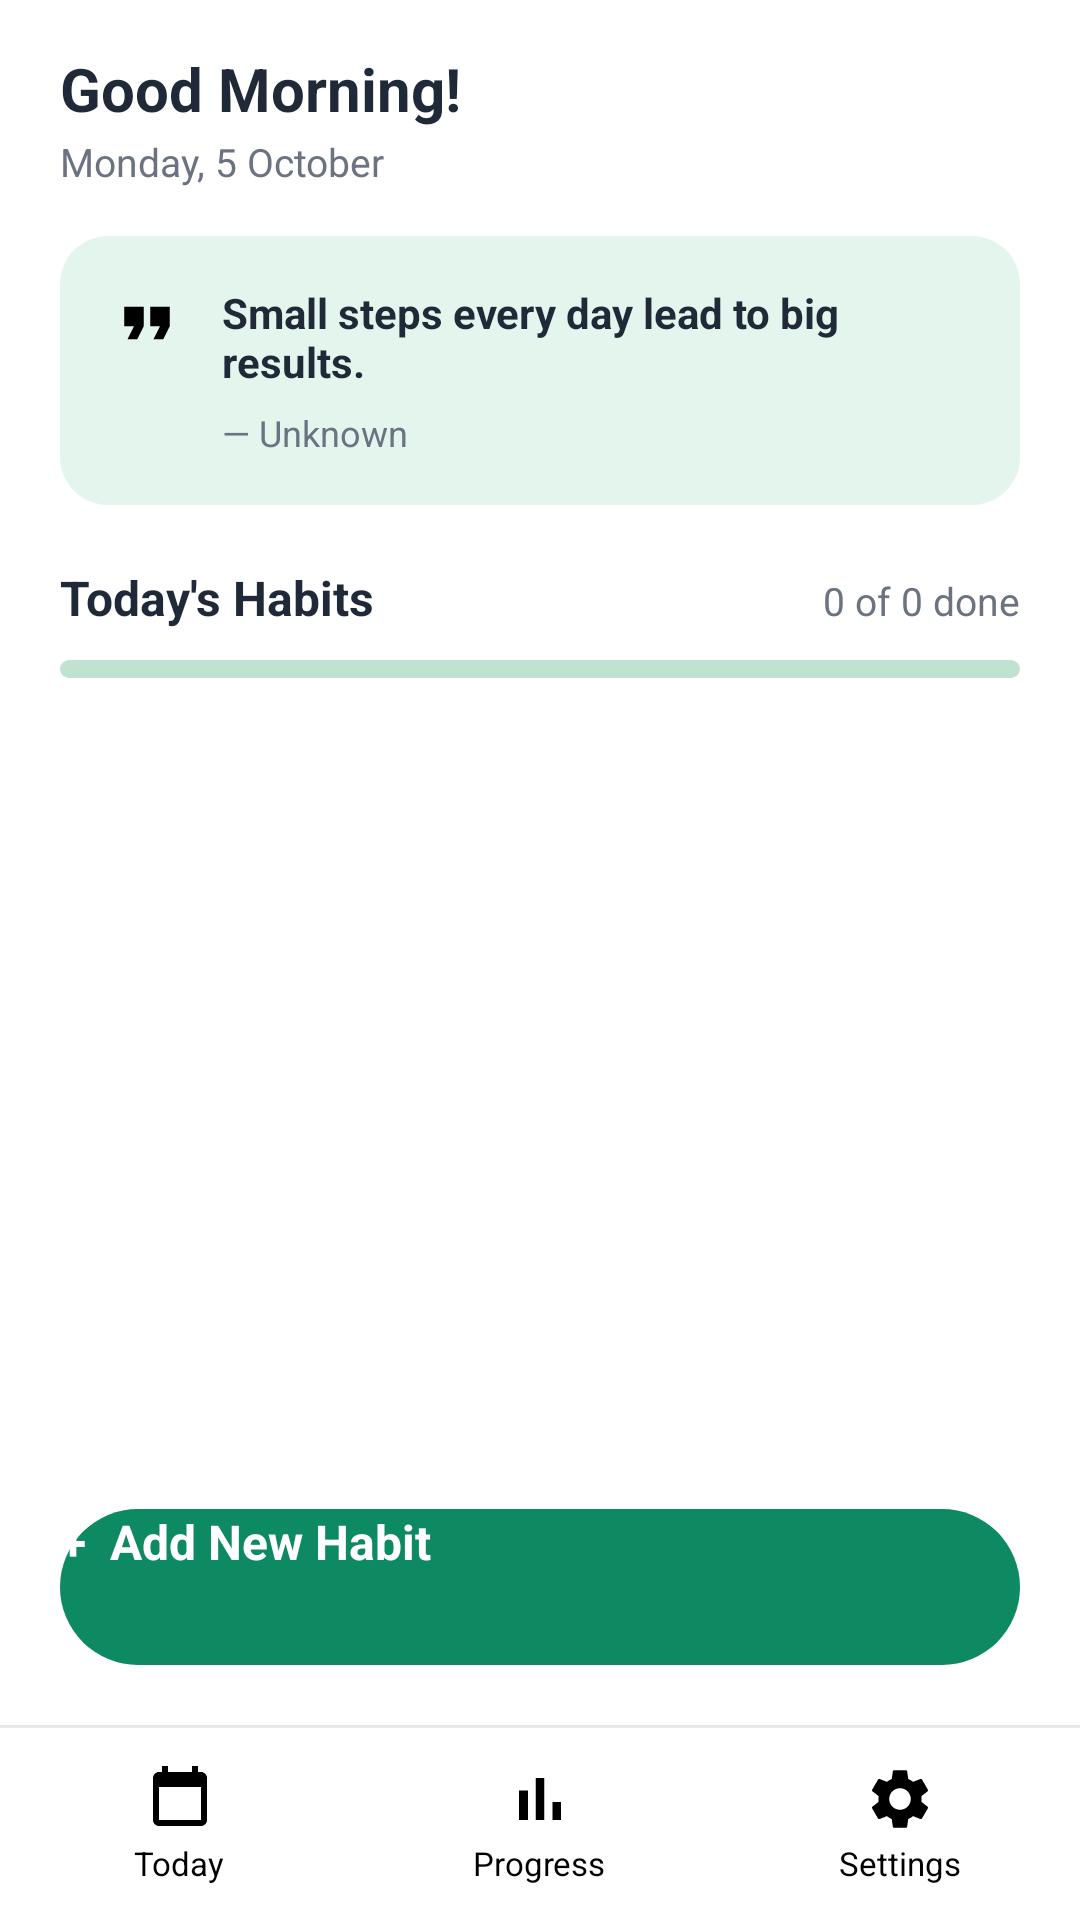

Icons on this 1080px x 1920px Android screen, each with the point to tap as point (x, y):
calendar: point (180, 1796)
chart: point (540, 1799)
quote: point (147, 323)
